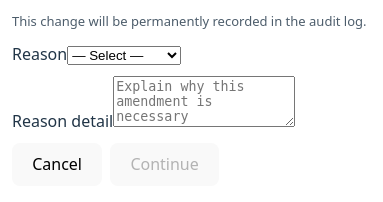
Test: EditIntentGate › Continue is disabled until reason and detail are provided.
The width and height of the screenshot is (383, 202).
Expected: the button "Continue" is disabled, [110,143,219,186]
Select "Typo correction" in the dropdown at [124, 55], box [67,46,181,65]
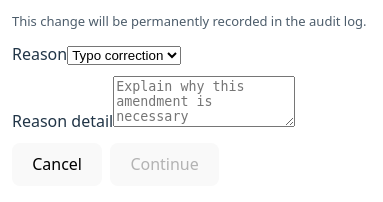
Expected: the button "Continue" is disabled, [110,143,219,186]
Type "Fixing typo" into the text box at [204, 101], box [113,76,295,127]
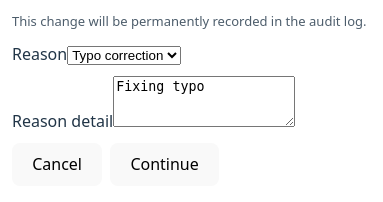
Now the button "Continue" is enabled, box [110,143,219,186]
